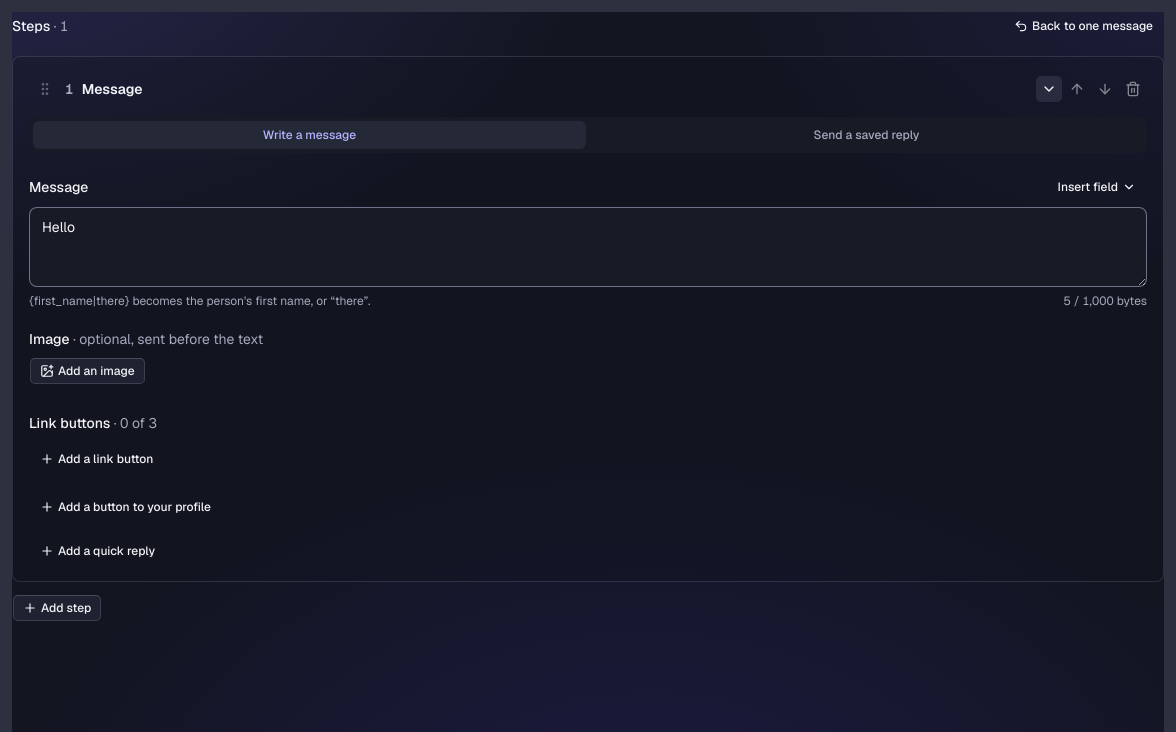
Scenario: the flow editor (GR-13) › stops a list at End: nothing can follow it
The image size is (1176, 732).
Step 1. Click the button "Add step" → click(57, 608), box [12,594,102,622]
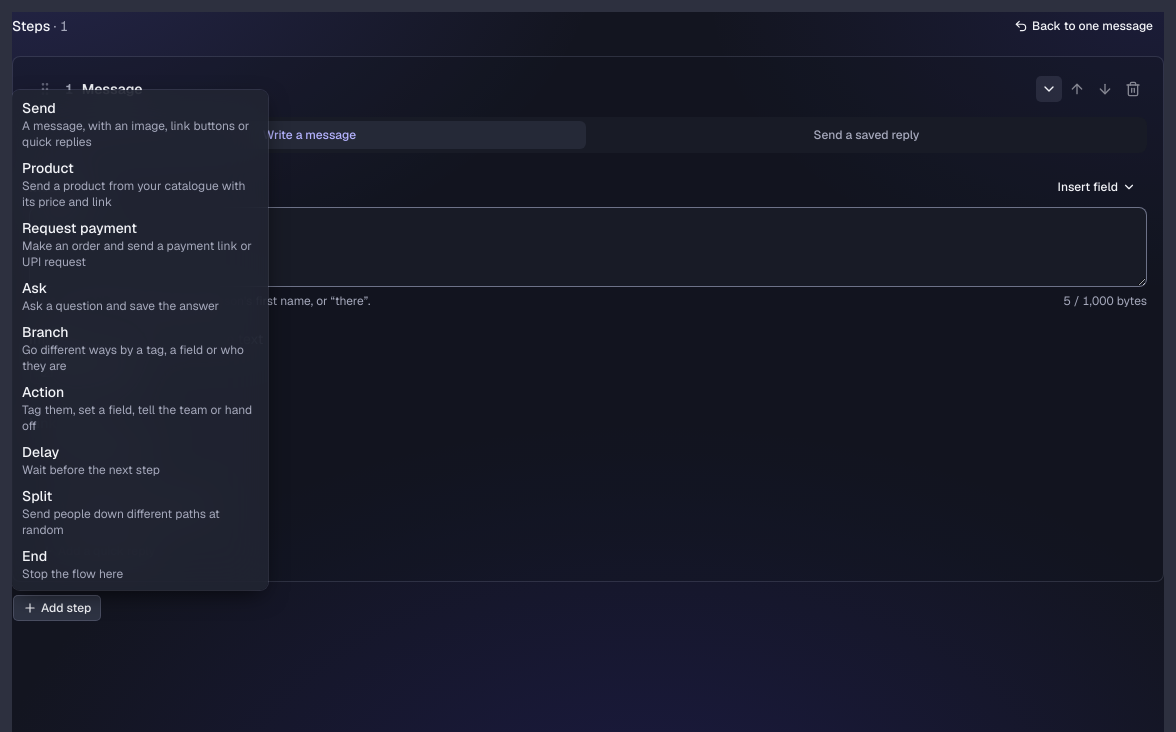
Step 2. Click the menu item "End Stop the flow here" → click(73, 564), box [22,547,123,582]
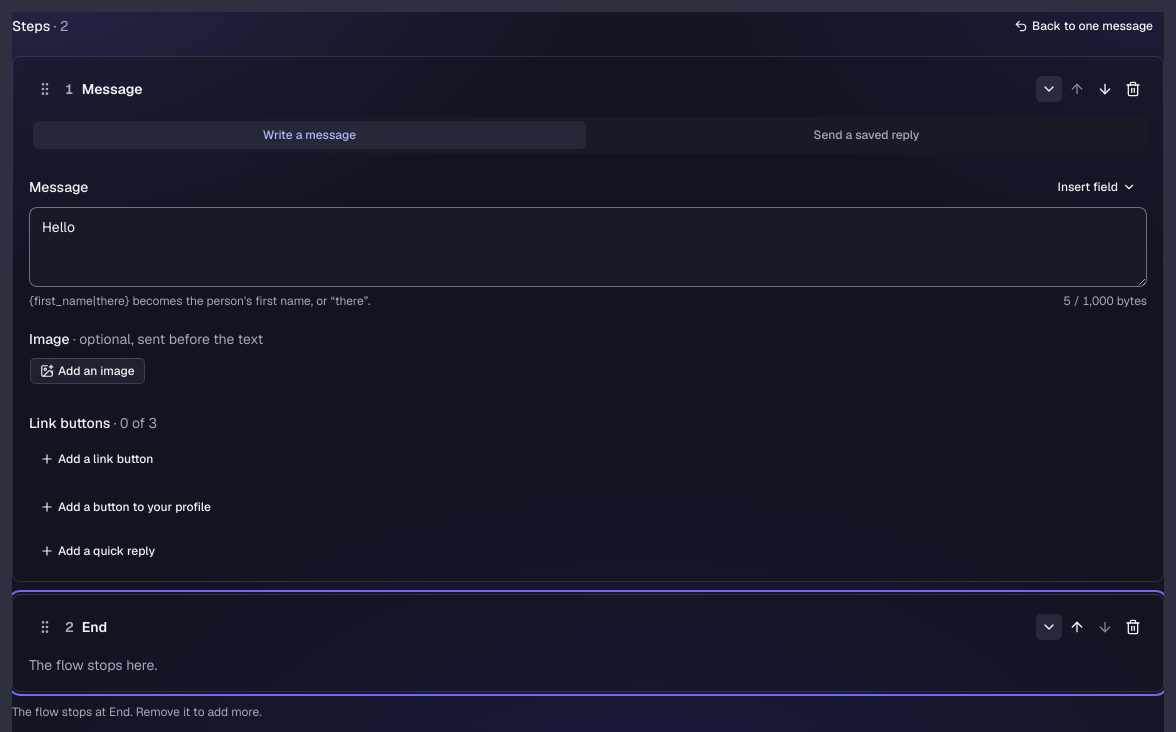
Check: the button "Add step" is gone
Check: the text "The flow stops at End. Remove it to add more." is shown, box [12,704,262,720]
